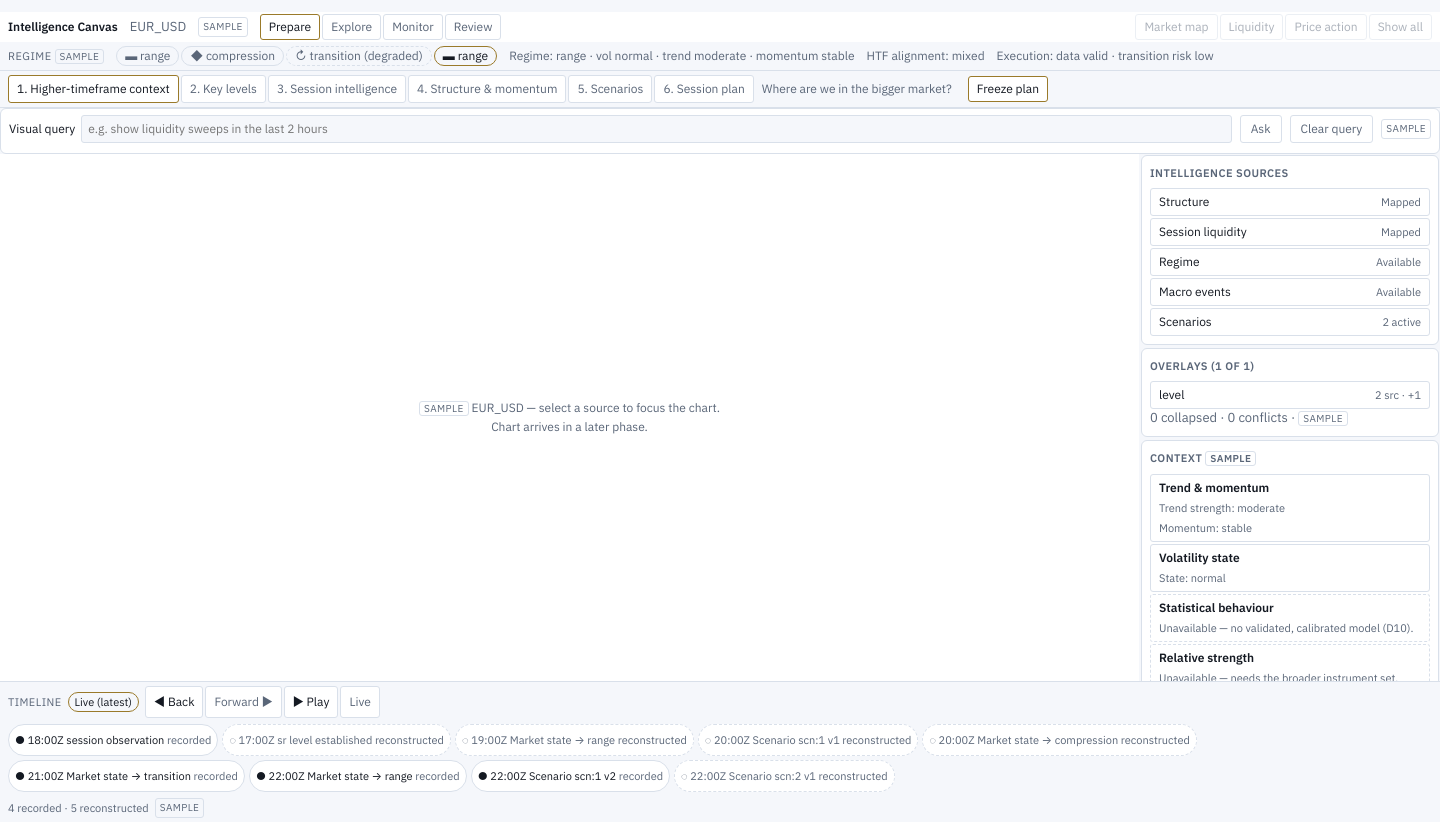
F1 Intelligence Canvas shell › the active step's preset filters the overlays shown (step 5 = scenarios hides the level)
Expected: the button "level 2 src · +1" is shown, [1150,381,1430,409]
Click the button "5. Scenarios" at (610, 89), box [568,75,652,103]
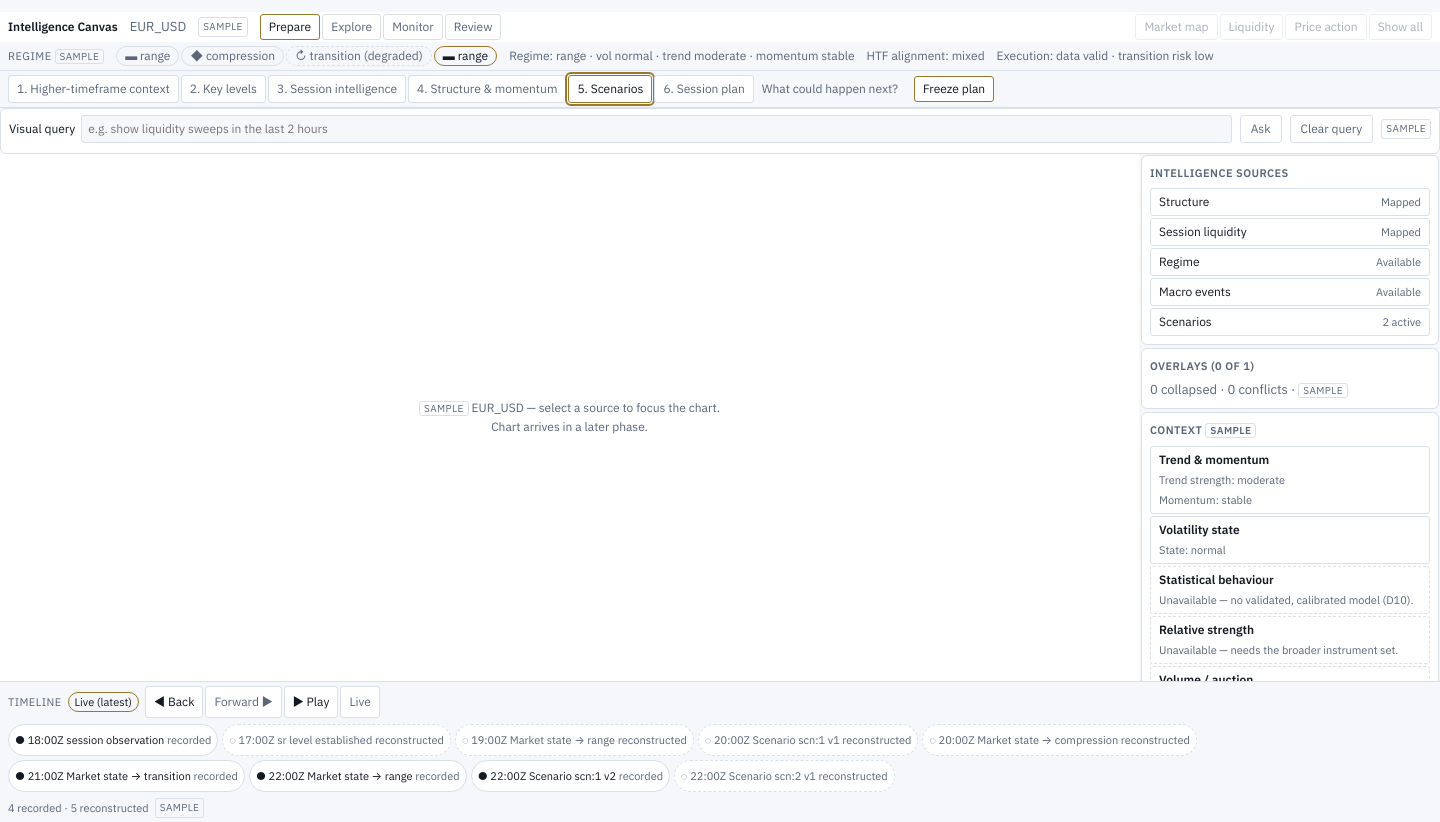
Expected: no buttons are shown
